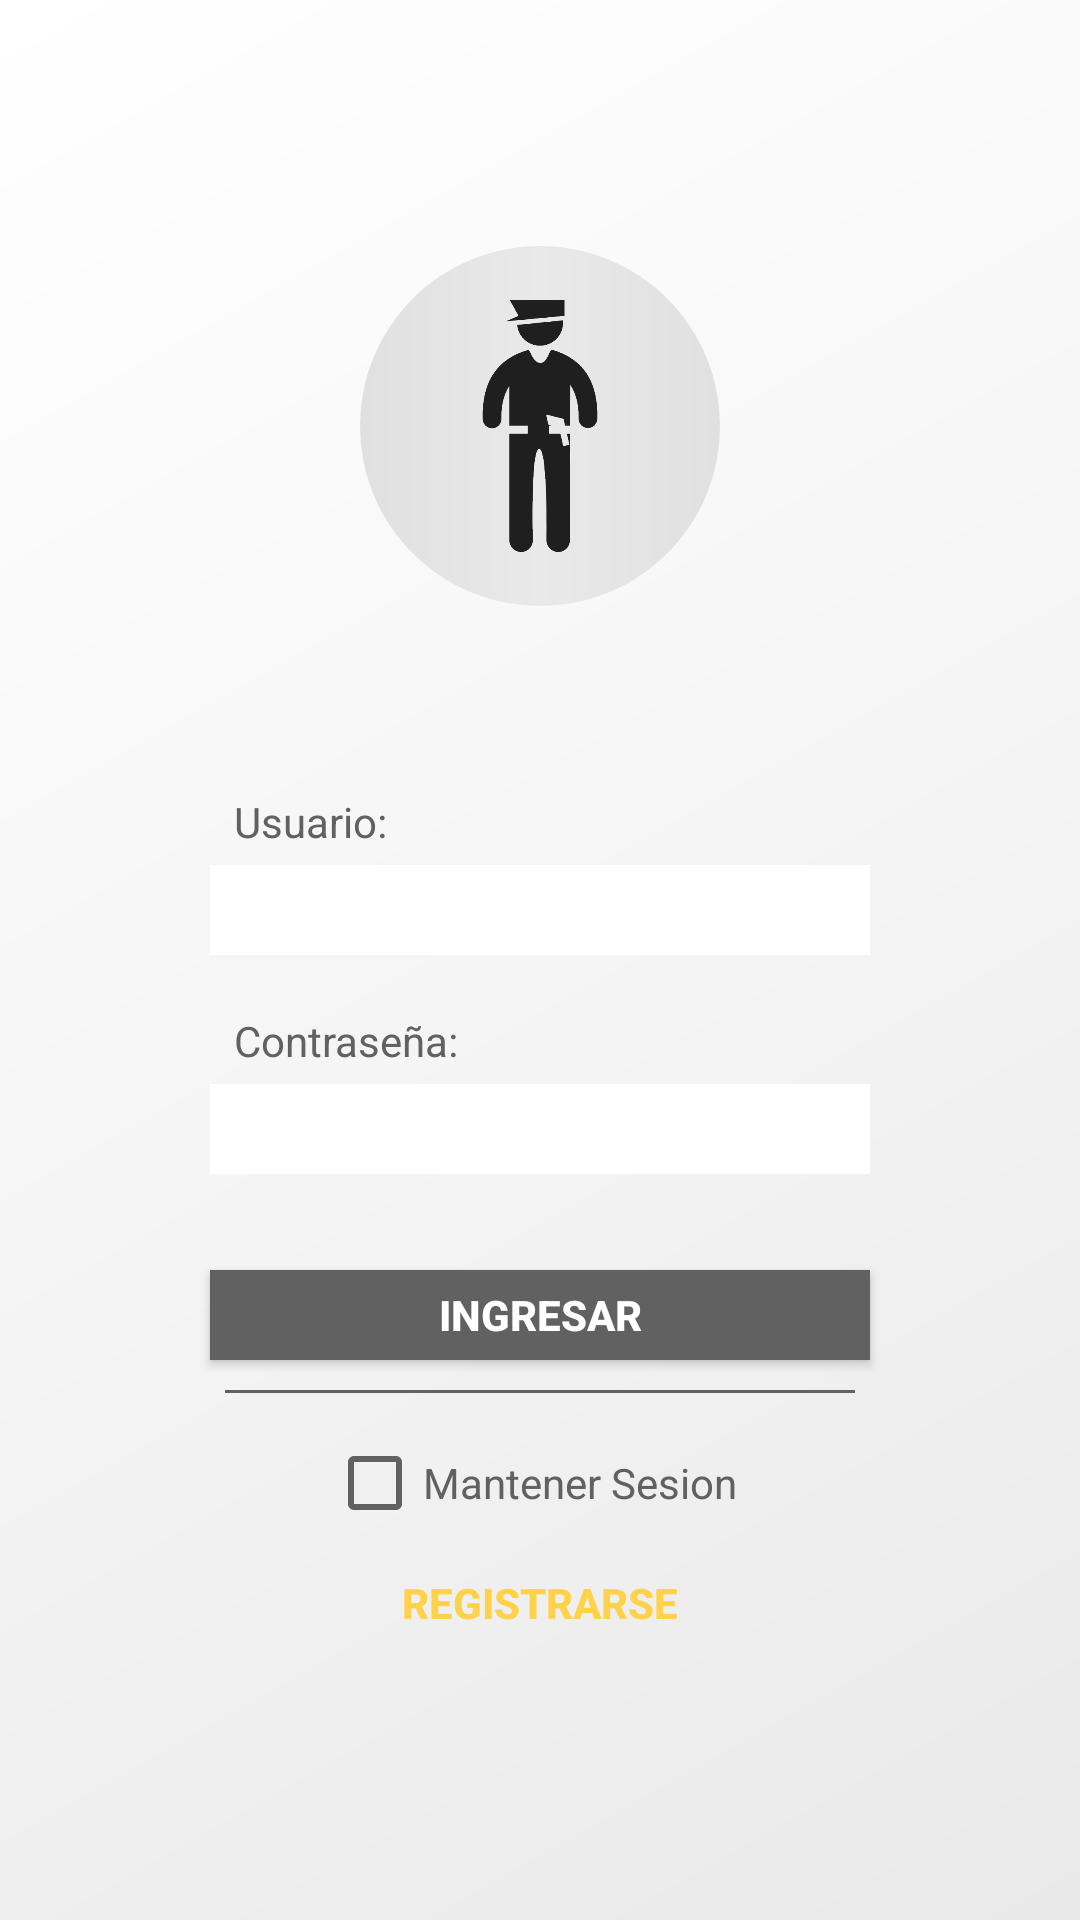

Icon bounding boxes for this 1080×1920 phone screenshot, format (x1, y1, x2, y2):
policia frontal: (360, 246, 720, 606)
